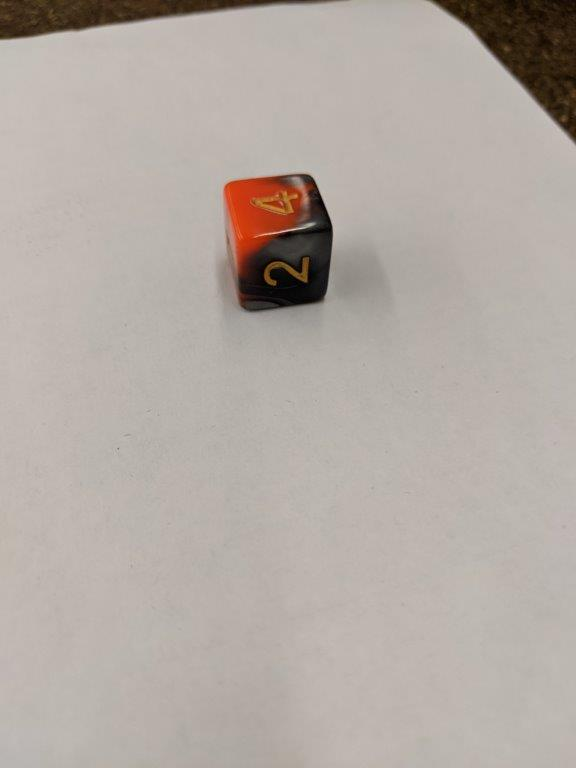d6-4: (221, 172, 333, 314)
